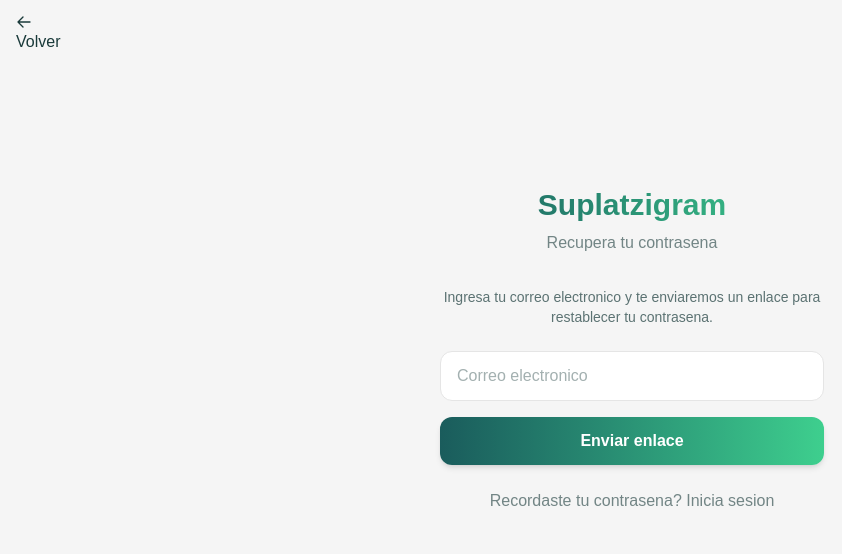
Test: ForgotPasswordPage › Form Submission - Error › shows generic error message for non-Error exceptions
In the field with placeholder "Correo electronico": {"x": 632, "y": 376} [440,351,824,401], type "test@example.com"
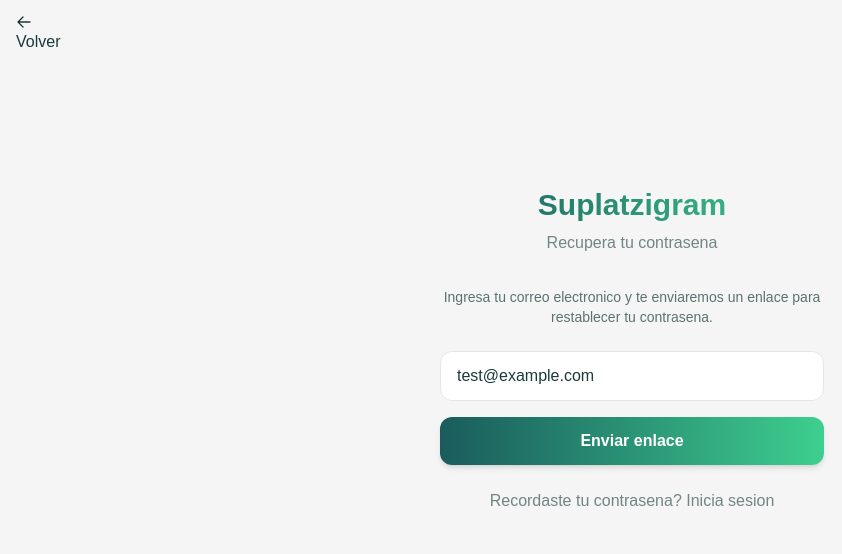
Click the button "Enviar enlace": {"x": 632, "y": 441} [440,417,824,465]
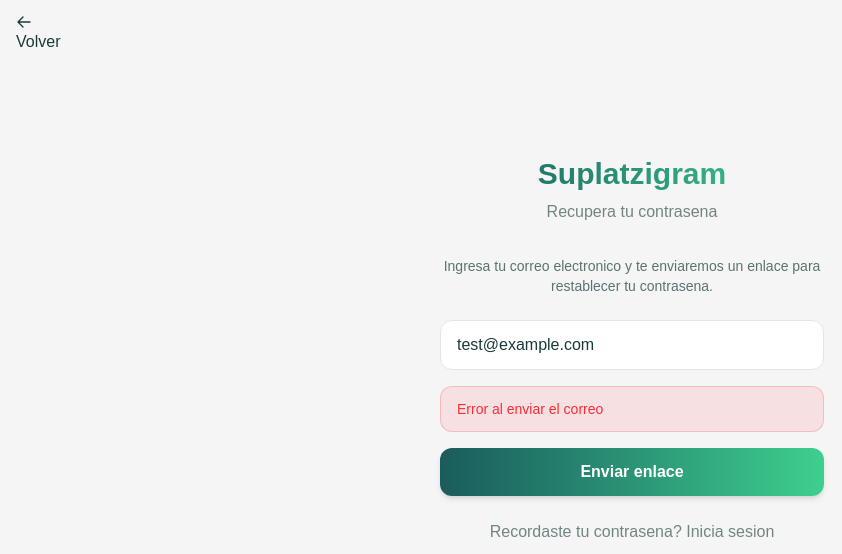
Result: the text "Error al enviar el correo" is shown at [440,386,824,432]
